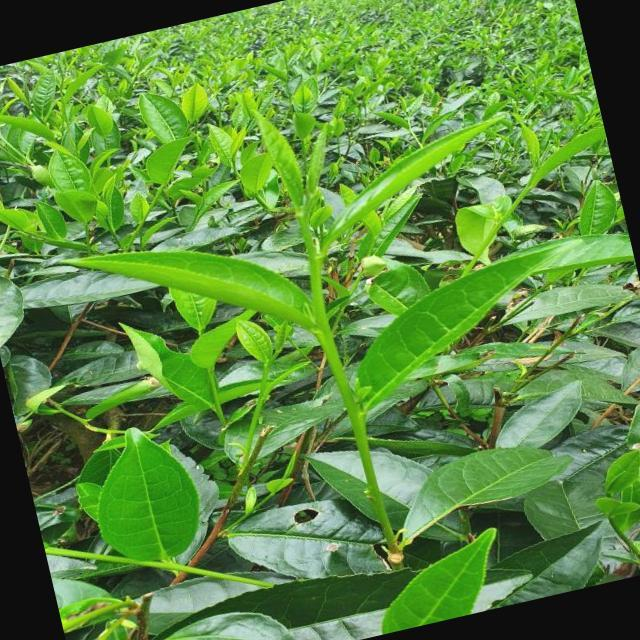Stem: (311, 258, 321, 282), (259, 398, 265, 403), (524, 187, 530, 192)
